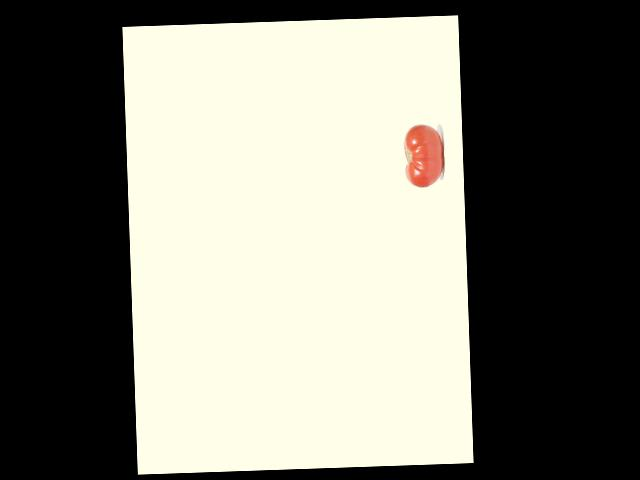tomato: (403, 124, 443, 188)
